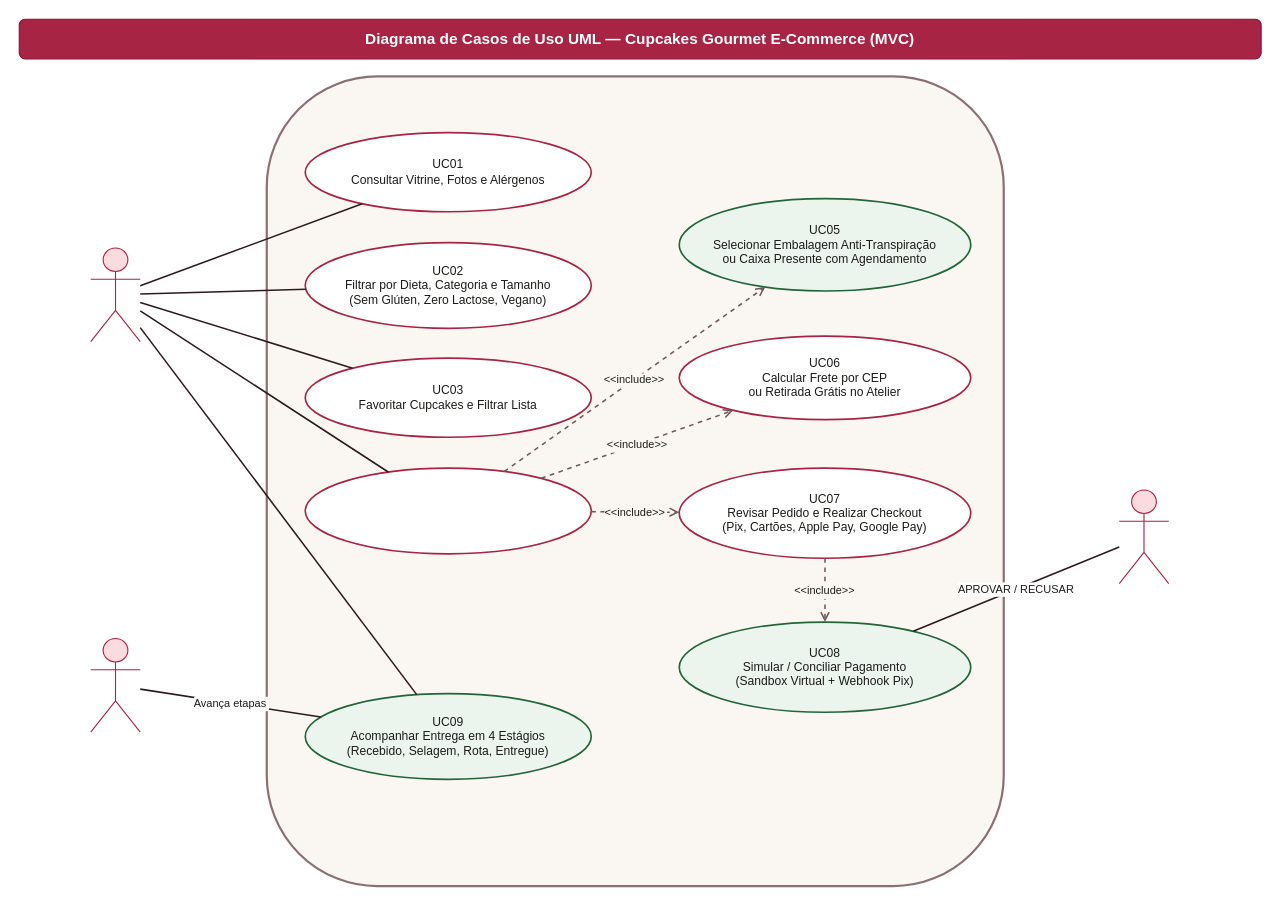
Some shapes in this 1280 by 906 pixel diagram are drawn without their labels. The box of each missing label's shape, as (x1, y1, x2, y2) in pixels:
Atendente / Expedição: (90, 637, 140, 732)
Cliente (Comprador): (90, 247, 140, 342)
Gateway Bancário (Webhook Pix): (1118, 489, 1169, 584)
Sistema Cupcakes Gourmet (Vitrine, Sacola, Checkout Sandbox & Rastreamento): (265, 75, 1004, 887)
UC04 Montar Sacola & Combos Automáticos (10%, 15% e 20% OFF): (304, 467, 592, 554)
